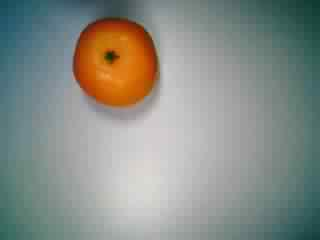orange: (66, 15, 163, 109)
